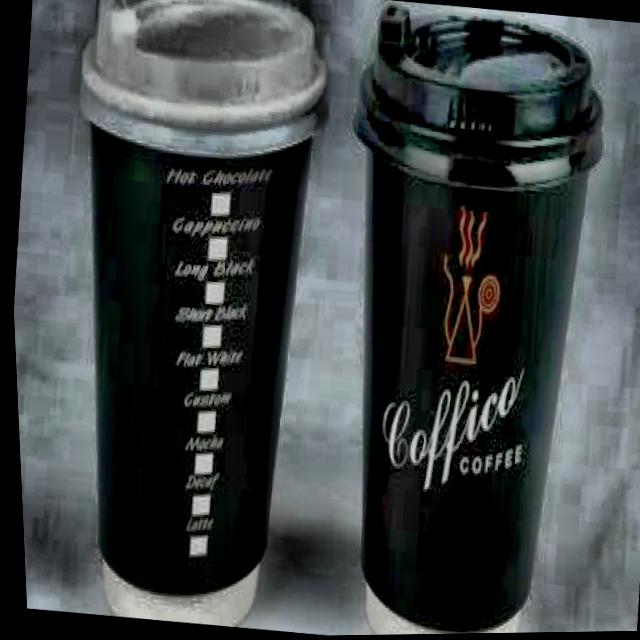Cup: (20, 0, 351, 635), (301, 0, 631, 636)
